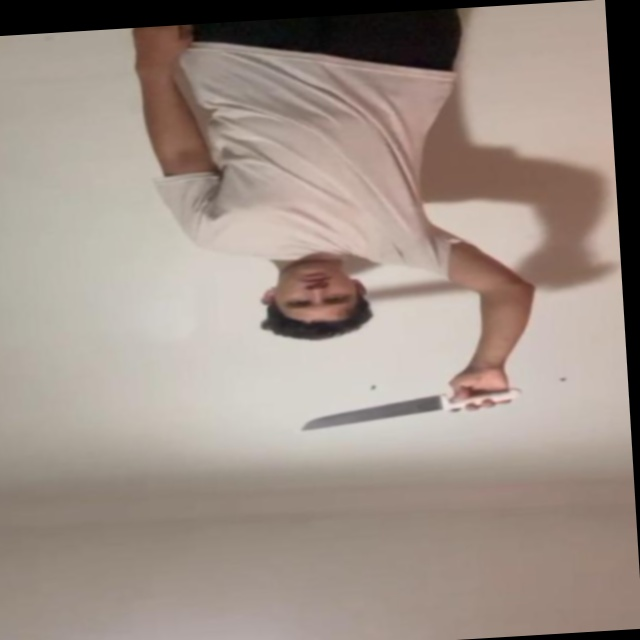Sharp-Object: (299, 395, 441, 437)
